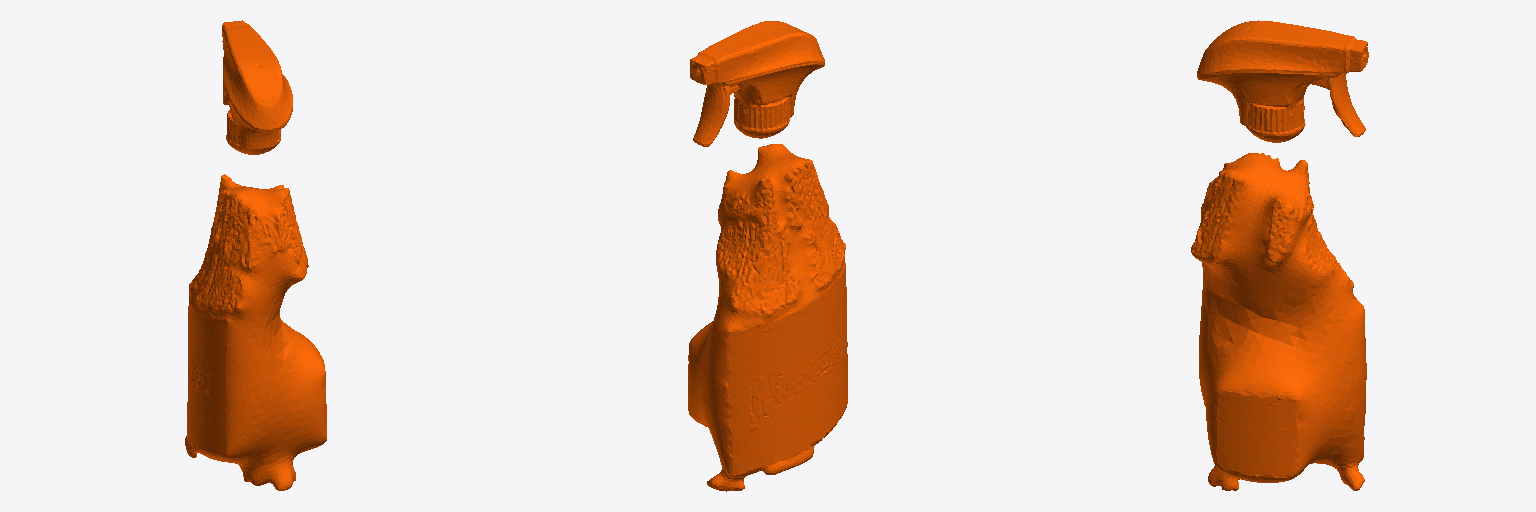
robot.urdf — 022_windex_bottle:
<?xml version="1.0" ?>
<robot name="022_windex_bottle">
   <material name="obj_color">
      <color rgba="1.0 0.423529411765 0.0392156862745 1.0"/>
   </material>
   <link name="top">
      <inertial>
         <origin rpy="0.001028195833572429 0.00683812917465039 0.007054829513890857" xyz="0.0004976606280750047 -0.003072401977495101 -0.03711407731975645"/>
         <mass value="1.441442846932231"/>
         <inertia ixx="0.007035196859158027" ixy="-6.25303696739583e-05" ixz="1.512244799760952e-05" iyy="0.006854114005529868" iyz="0.0001448521643583085" izz="0.001031843657425783"/>
      </inertial>
      <visual>
         <origin rpy="0 0 0" xyz="0 0 0"/>
         <geometry>
            <mesh filename="top_watertight_tiny.stl" scale="1 1 1"/>
         </geometry>
         <material name="obj_color"/>
      </visual>
      <collision>
         <origin rpy="0 0 0" xyz="0 0 0"/>
         <geometry>
            <mesh filename="top_watertight_tiny.obj" scale="1 1 1"/>
         </geometry>
      </collision>
   </link>
   <link name="bottom">
      <inertial>
         <origin rpy="1.633333333199431e-08 1.633333333199431e-08 1.633333333362855e-08" xyz="0.3464080000000008 0.3464080000000008 0.3464080000000008"/>
         <mass value="0.0009800000000000017"/>
         <inertia ixx="1.633333333253906e-08" ixy="5.447480642029219e-19" ixz="5.447480642029219e-19" iyy="1.633333333253906e-08" iyz="5.447480642029219e-19" izz="1.633333333253906e-08"/>
      </inertial>
      <visual>
         <origin rpy="0 0 0" xyz="0 0 0"/>
         <geometry>
            <mesh filename="bottom_watertight_tiny.stl" scale="1 1 1"/>
         </geometry>
         <material name="obj_color"/>
      </visual>
   </link>
   <joint name="rotation" type="revolute">
      <origin xyz="0 0 0"/>
      <axis xyz="0 0 -1"/>
      <parent link="bottom"/>
      <child link="top"/>
      <dynamics damping="1.0" friction="1.0"/>
      <limit effort="0.1" velocity="0.1" lower="0" upper="0.001"/>
   </joint>
</robot>

--- Facts derived from the render (not from the file) ---
Views: 3 orthographic renders of the robot side by side, from view 1: azimuth 30°, elevation 25°; view 2: azimuth 150°, elevation 25°; view 3: azimuth 270°, elevation 25°.
Robot: 022_windex_bottle — 2 links, 1 joints (1 revolute); root link bottom; default pose: every joint at zero.
Links seen in each view (by area): view 1: top; view 2: top; view 3: top.
Link boxes in pixels (left/top/right/bottom): top: left=185, top=20, right=326, bottom=490; top: left=688, top=21, right=847, bottom=491; top: left=1191, top=20, right=1368, bottom=490.
Bounding box of the posed robot: 0.0827 × 0.0954 × 0.2698 m (x, y, z).
Meshes: 2 distinct files referenced, 1 mesh visuals loaded (1 binary STL); not drawn: 1 (reference not matched to a file when rendering).
